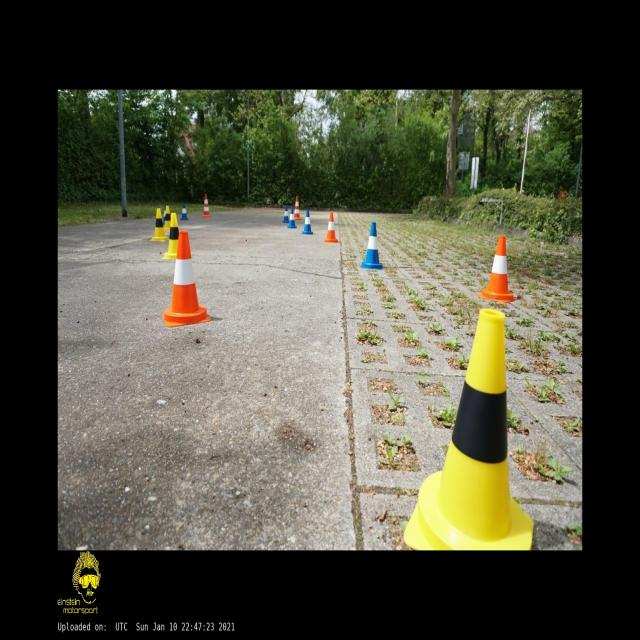blue_cone: (361, 223, 383, 269), (302, 210, 313, 234), (288, 208, 298, 228), (180, 204, 188, 220), (282, 206, 289, 223), (163, 204, 166, 224)
large_orange_cone: (201, 193, 212, 217), (294, 196, 302, 220)
orange_cone: (163, 231, 211, 328), (478, 235, 518, 302), (323, 213, 340, 243)
yellow_cone: (404, 309, 534, 550), (162, 212, 178, 258), (150, 207, 168, 242), (164, 205, 170, 231)
